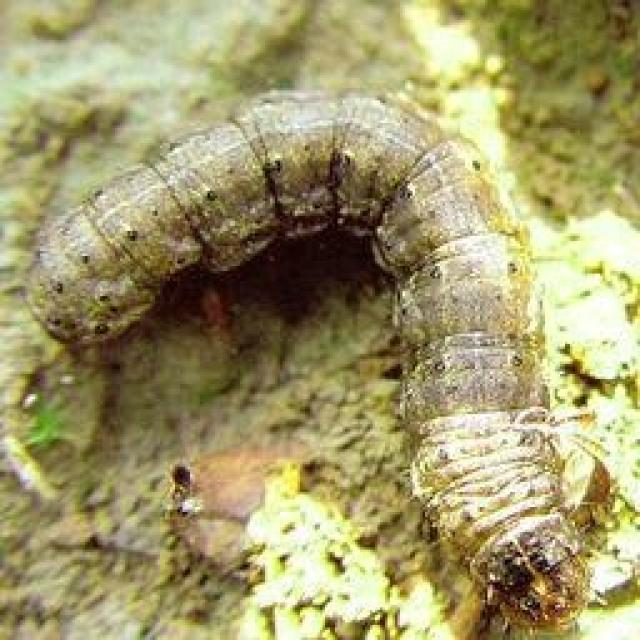black cutworm: (26, 80, 616, 630)
